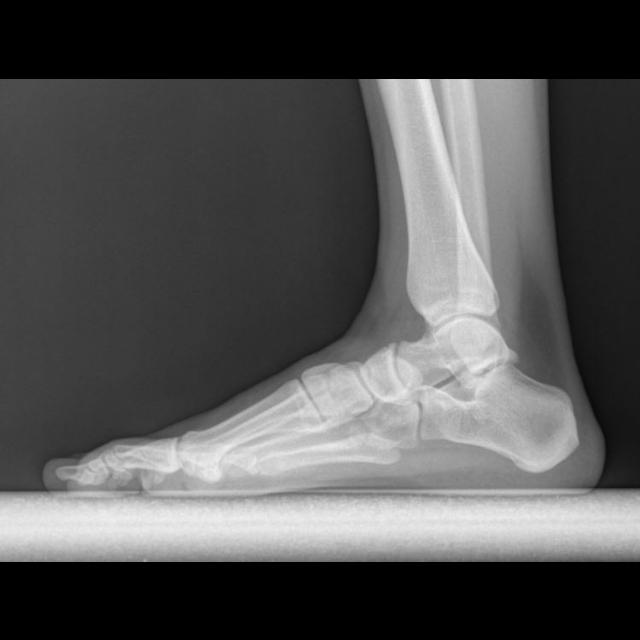a: (420, 364, 581, 474)
b: (359, 345, 414, 401)
c: (178, 376, 318, 467)
